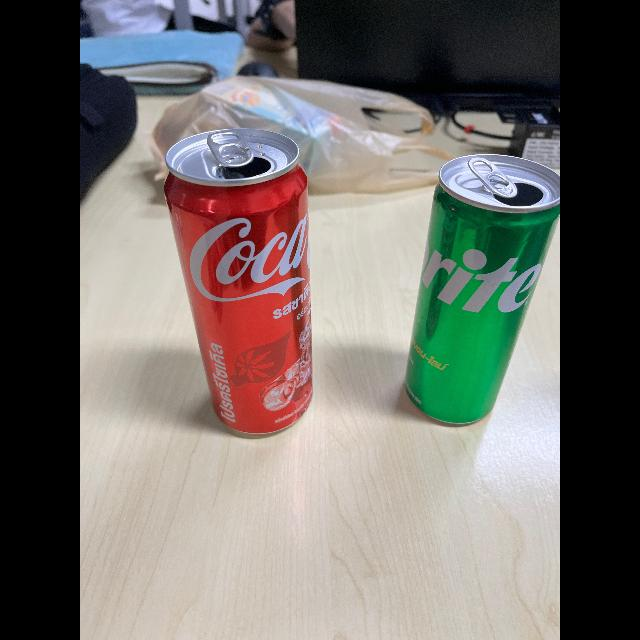can: (158, 132, 340, 446), (378, 145, 560, 429)
